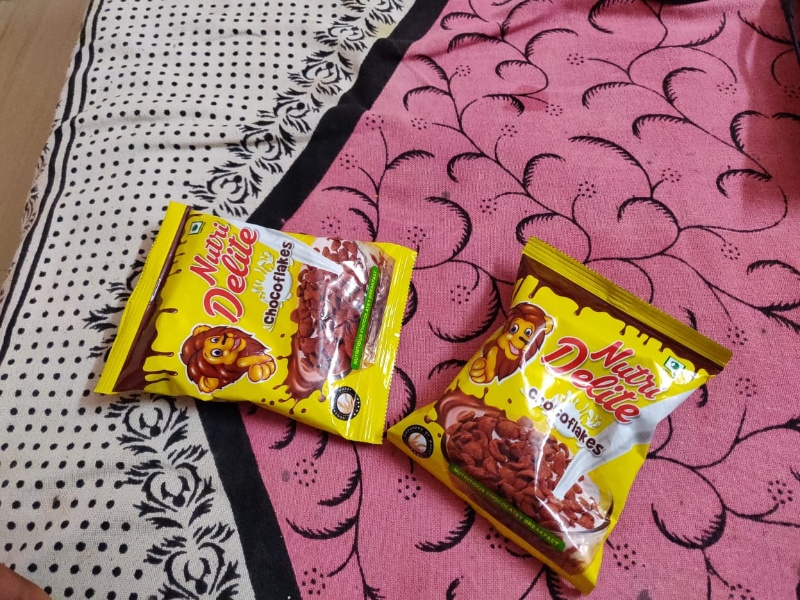nutriDelite: (426, 247, 735, 573), (99, 172, 408, 476)
